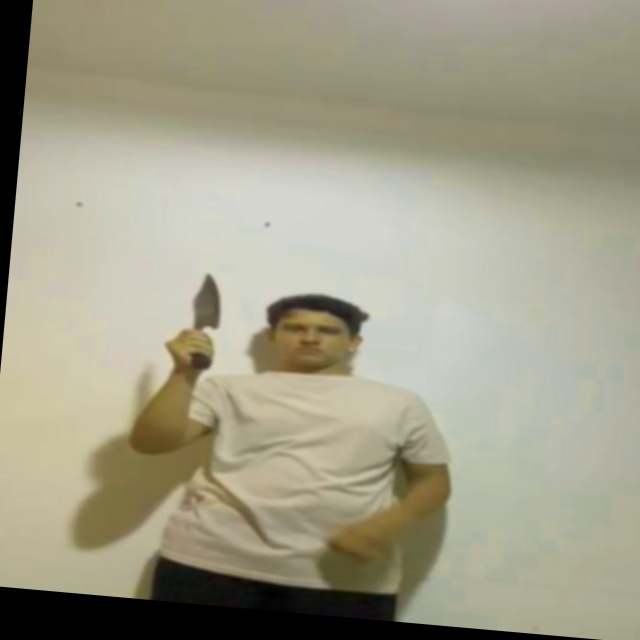Sharp-Object: (190, 272, 230, 330)
